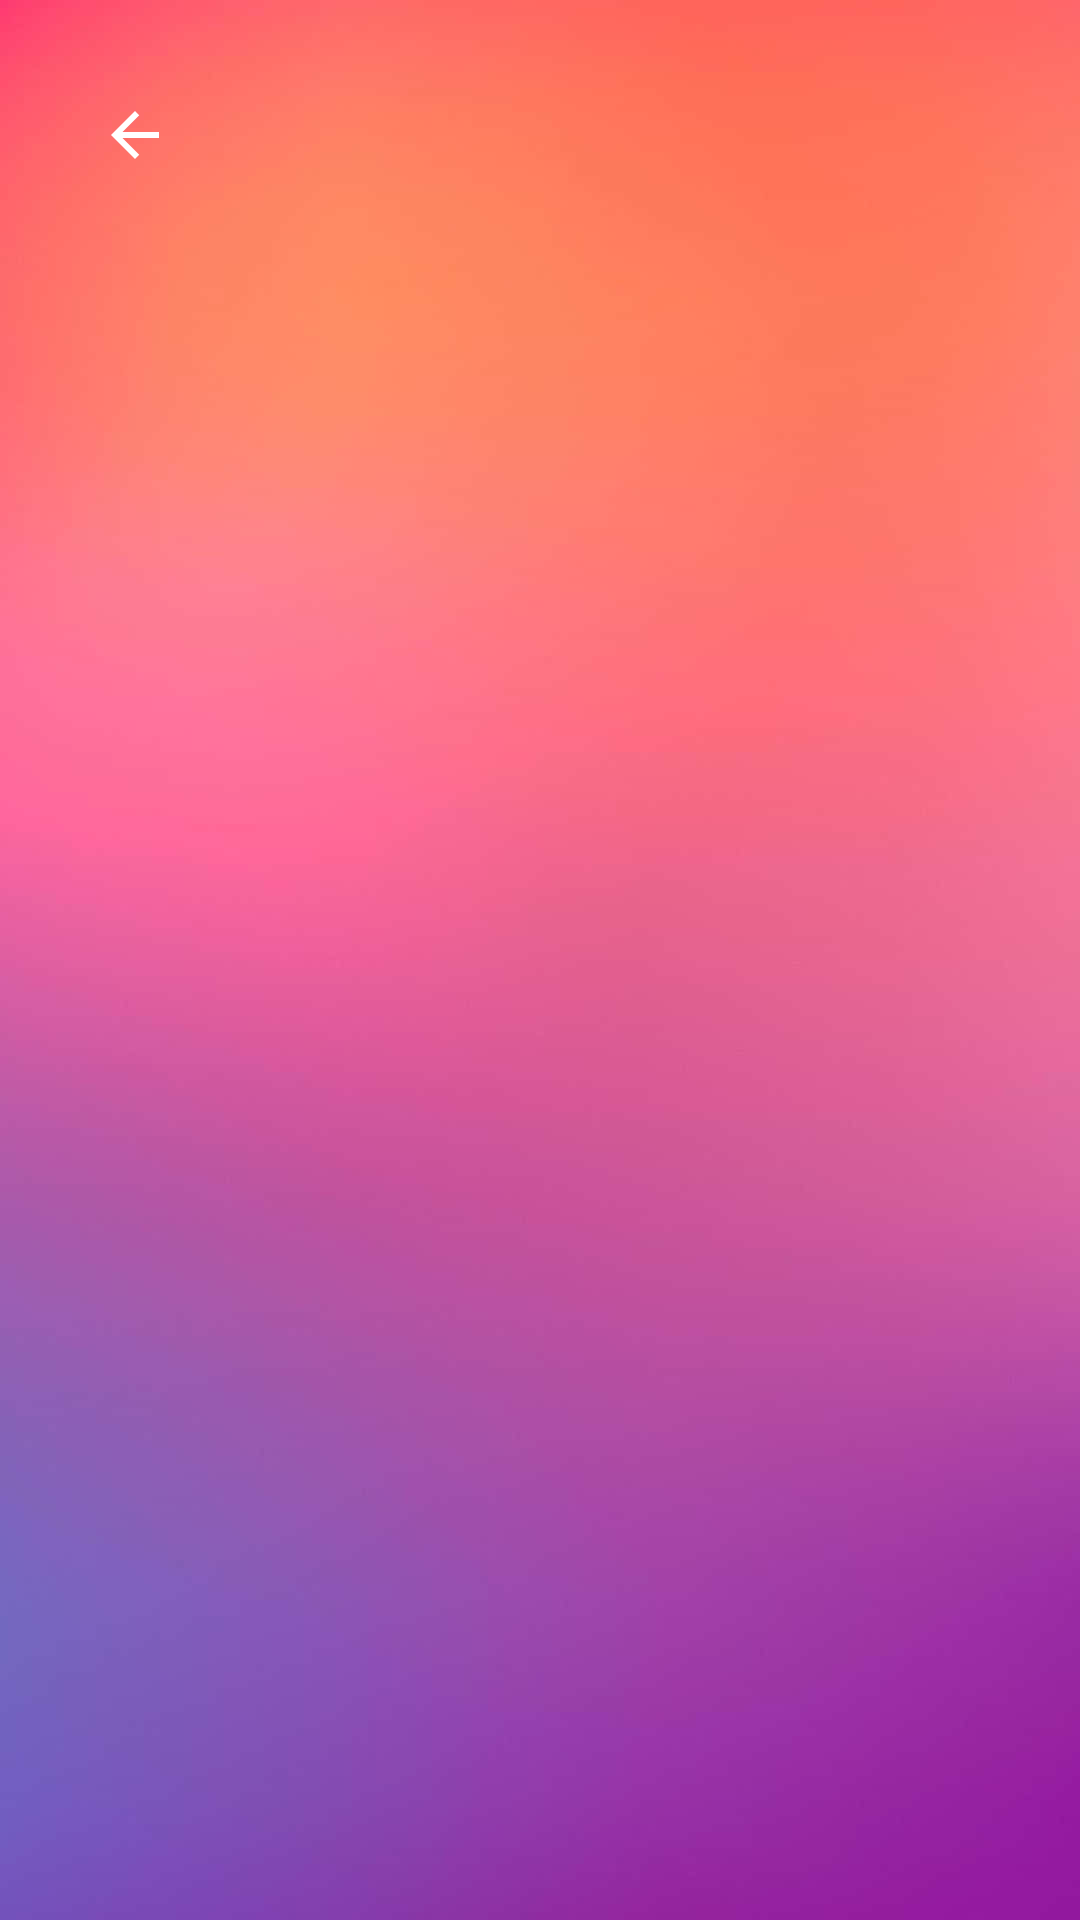

Screen size 1080×1920. Icon name, then its box in pixels as (x1, y1, x2, y2):
Atpakaļ: (111, 111, 159, 159)
